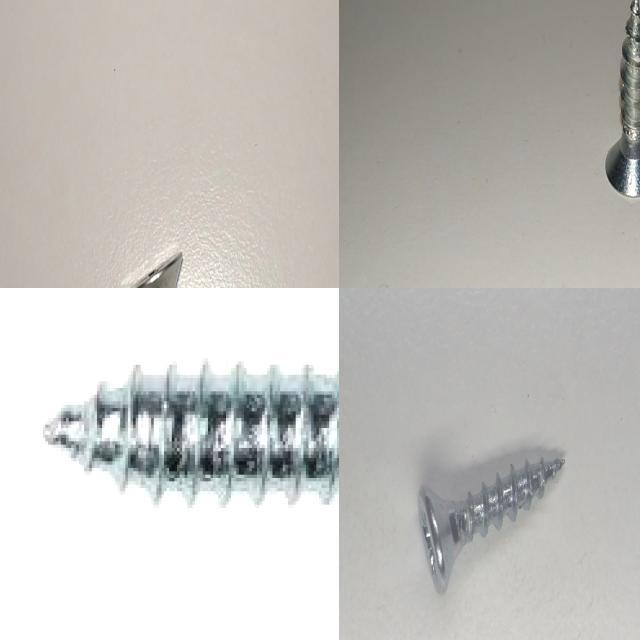Screw: (45, 361, 339, 501), (418, 457, 565, 594), (605, 0, 640, 197)
